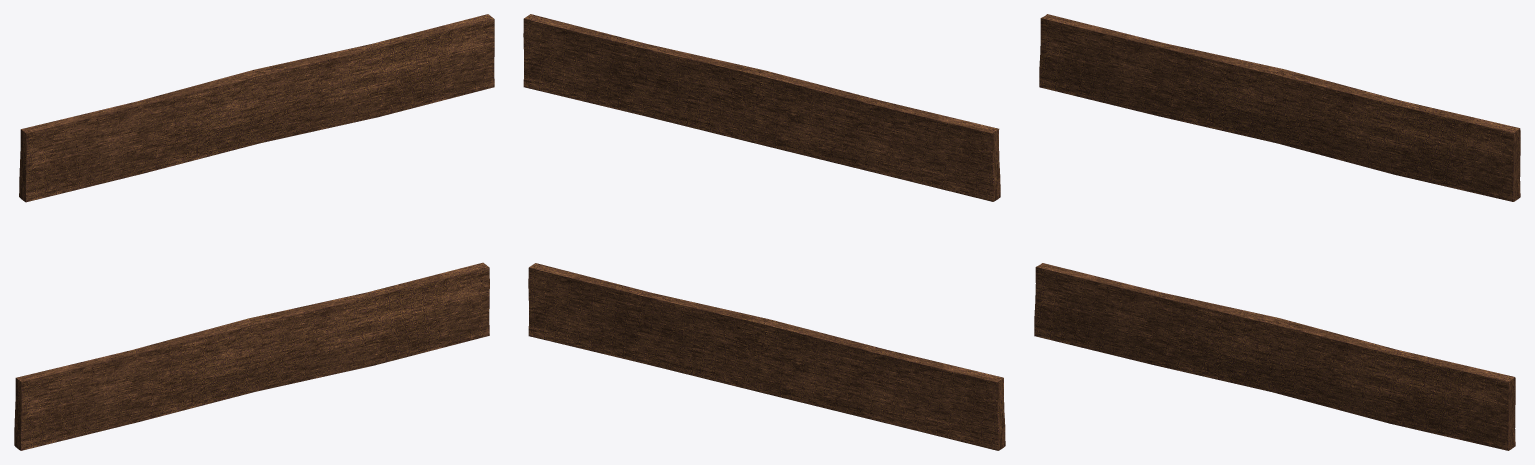
File: wall_rail.glb
3 renders of one model, left to right at view 1: azimuth 30°, elevation 25°; view 2: azimuth 150°, elevation 25°; view 3: azimuth 330°, elevation 25°, orthographic.
Visible parts, largest first — view 1: FencePlankB; view 2: FencePlankB; view 3: FencePlankB.
Boxes of the visible parts, bbox=[...] form: FencePlankB: bbox=[14, 14, 494, 450]; FencePlankB: bbox=[523, 14, 1005, 450]; FencePlankB: bbox=[1034, 14, 1520, 450].
Size of the model in its own units: 0.9306 by 0.5965 by 0.0262.
Materials: 2 (2 with a texture image).
